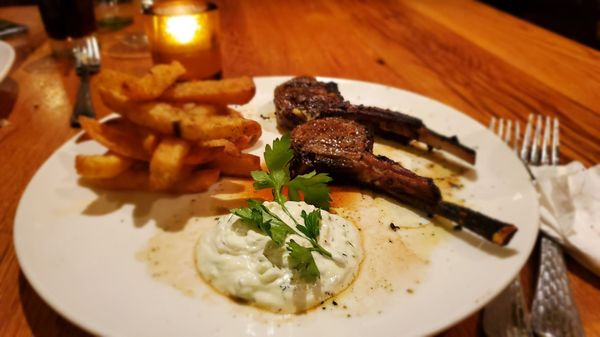sandwich: (279, 117, 518, 253)
